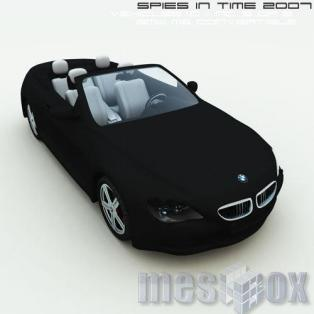Auto: (19, 53, 286, 257)
